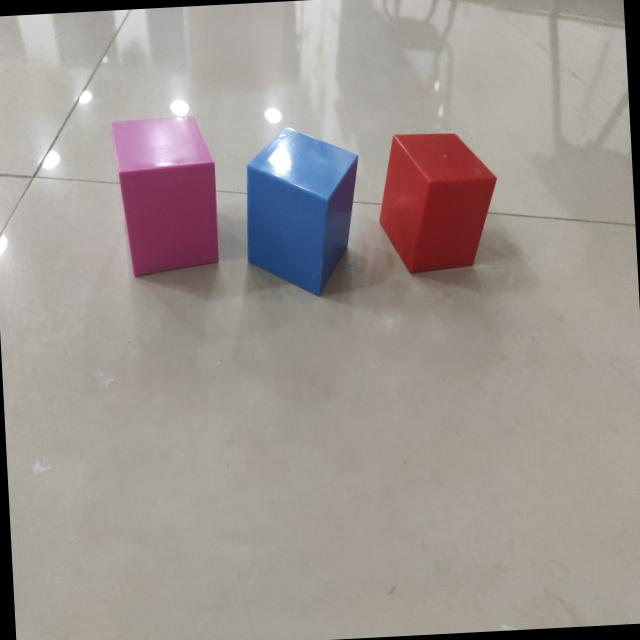blue: (246, 128, 359, 297)
pink: (110, 113, 220, 279)
red: (379, 134, 497, 276)
